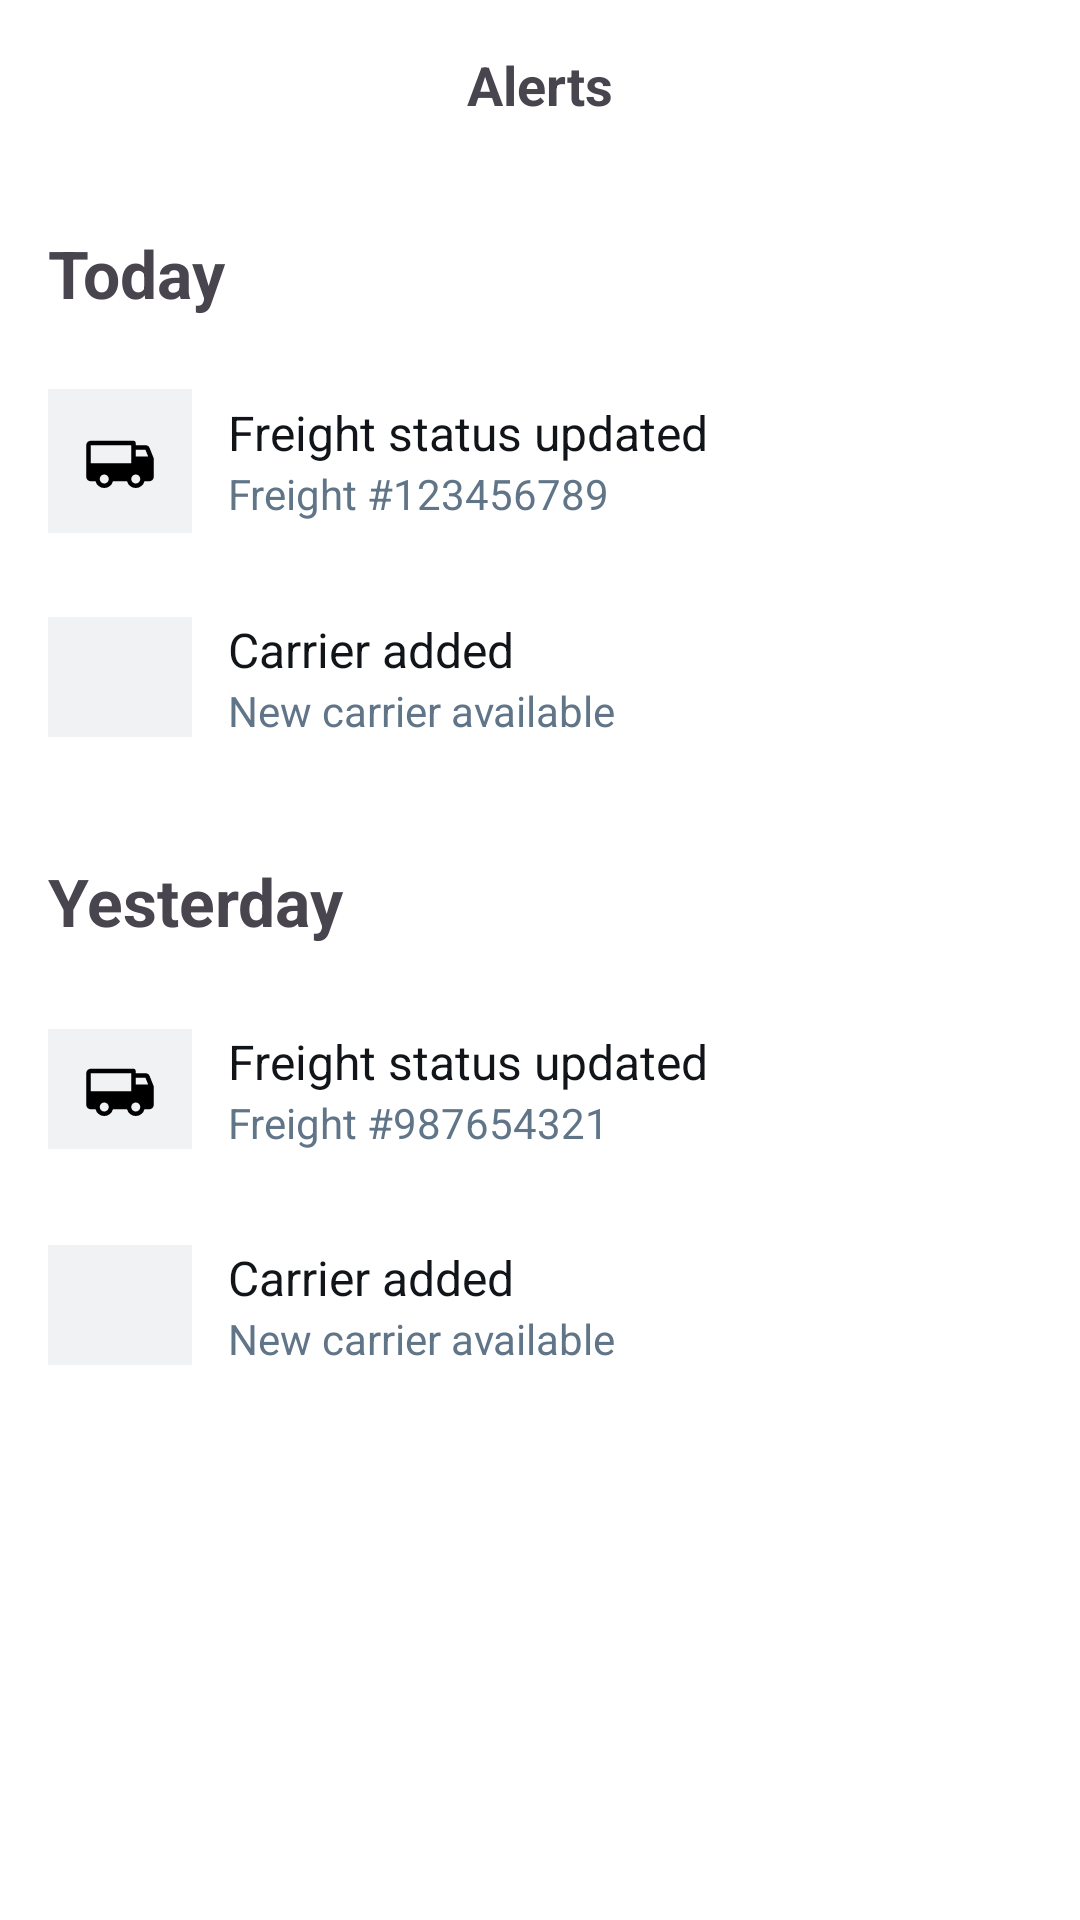

Named icons in this screenshot (1080x1920) and their bounding boxes, [left=x1, top=y1, right=x2, bottom=y2]:
truck: [left=86, top=440, right=154, bottom=488], [left=86, top=1068, right=154, bottom=1116]
